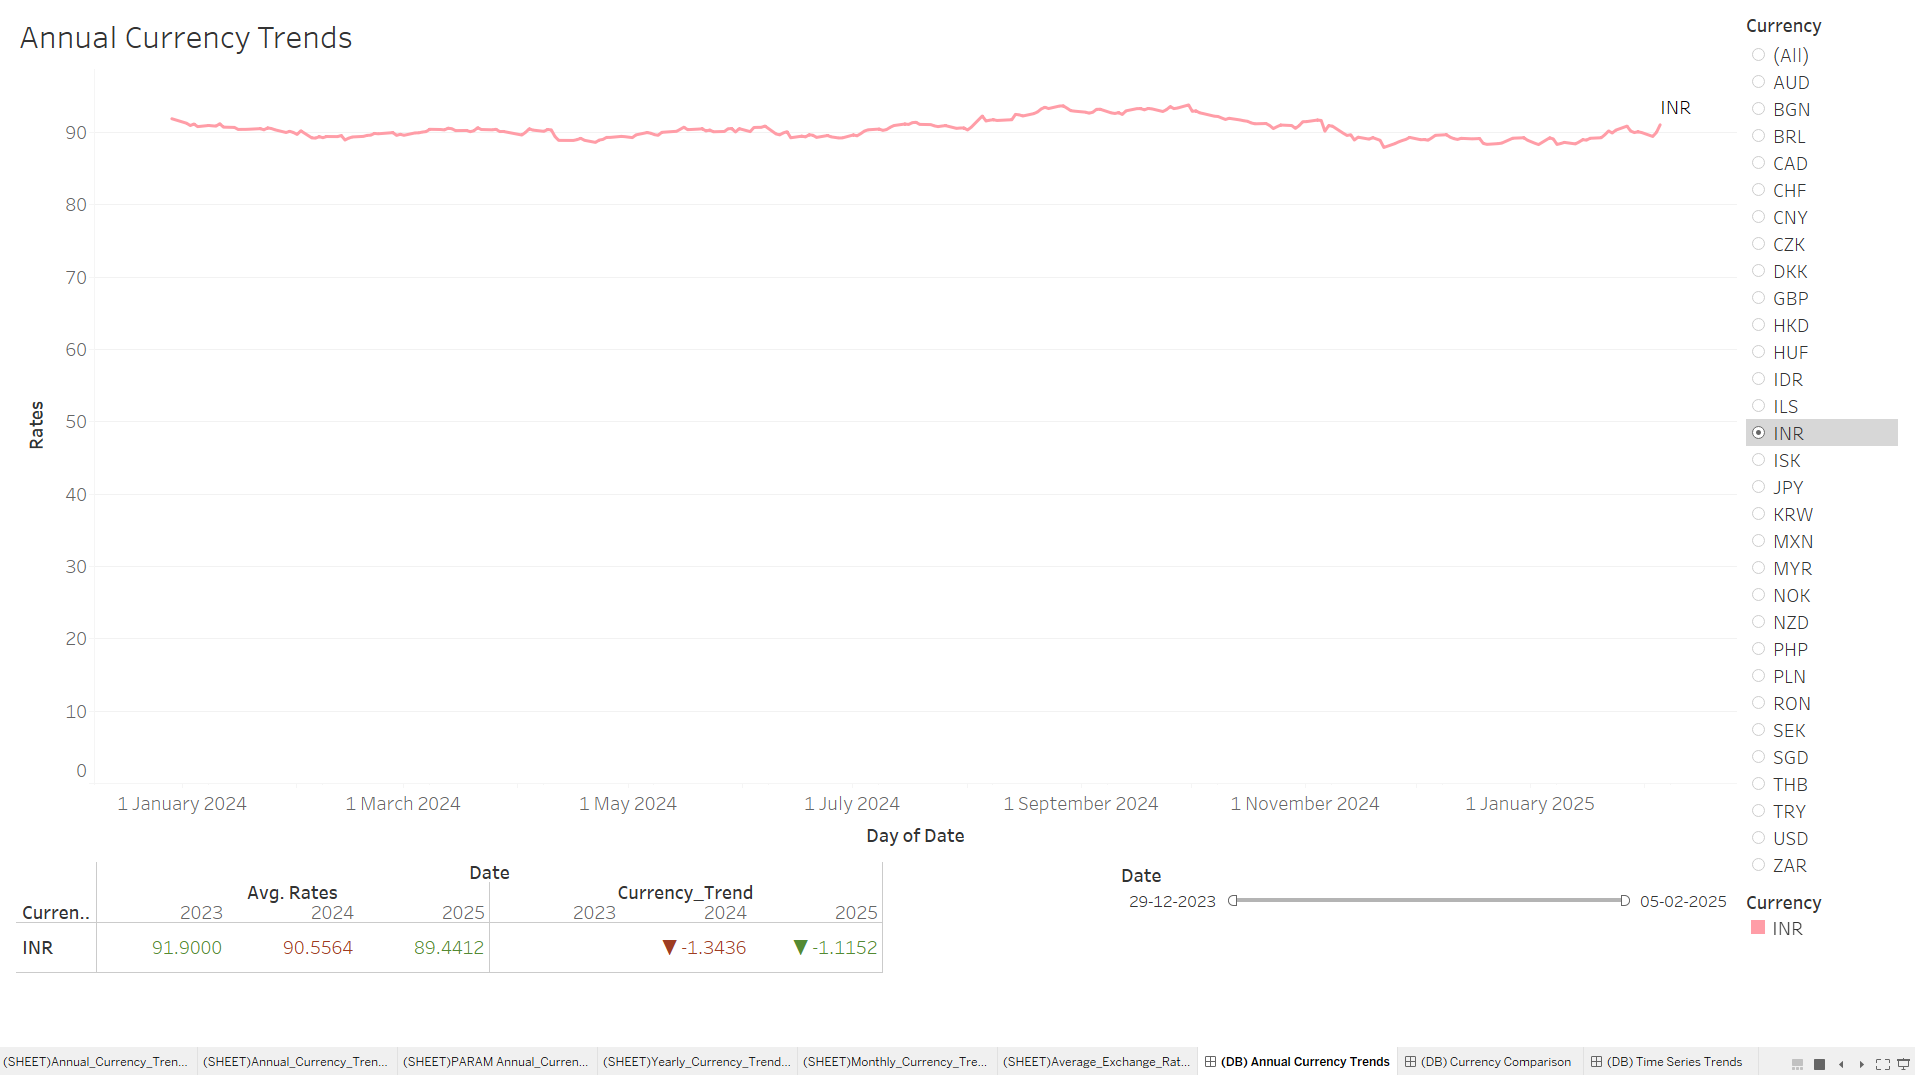

What the dashboard file says about the page in this screenshot:
{"tool":"tableau","page":{"name":"(DB) Annual Currency Trends","canvas":[1000,1000],"units":"permille","ordinal":0},"visuals":[{"type":"worksheet","title":"(SHEET)Annual_Currency_Trends","mark":"Line","rows":["Rates (copy)_1711086427370254337"],"cols":["DATE"],"box":[8,10,884.2,809.9]},{"type":"filter","title":"(SHEET)Yearly_Currency_Trends_Table","param":"[federated.1v11yo518a9j6g1fef7st0lkwzgw].[none:currency:nk]","box":[892.2,10,99.8,911]},{"type":"worksheet","title":"(SHEET)Yearly_Currency_Trends_Table","mark":"Automatic","rows":["currency"],"cols":["DATE"],"box":[8,819.9,564.9,170.1]},{"type":"filter","title":"(SHEET)Annual_Currency_Trends","param":"[federated.1v11yo518a9j6g1fef7st0lkwzgw].[none:DATE:qk]","box":[572.9,819.9,319.3,170.1]},{"type":"legend","title":"(SHEET)Annual_Currency_Trends","param":"[federated.1v11yo518a9j6g1fef7st0lkwzgw].[none:currency:nk]","box":[892.2,921,99.8,69]}]}

Visuals, with their boxes on the dashboard's canvas, which has no fixed pixel size, in thousandths of its width and height (x1, y1, x2, y2). These are canvas units, not pixel positions in the 1915x1075 screenshot, which may show the page scaled, cropped or inside an application window:
"(SHEET)Annual_Currency_Trends" worksheet (Line marks): (left=8, top=10, right=892, bottom=820)
"(SHEET)Yearly_Currency_Trends_Table" filter: (left=892, top=10, right=992, bottom=921)
"(SHEET)Yearly_Currency_Trends_Table" worksheet: (left=8, top=820, right=573, bottom=990)
"(SHEET)Annual_Currency_Trends" filter: (left=573, top=820, right=892, bottom=990)
"(SHEET)Annual_Currency_Trends" legend: (left=892, top=921, right=992, bottom=990)
